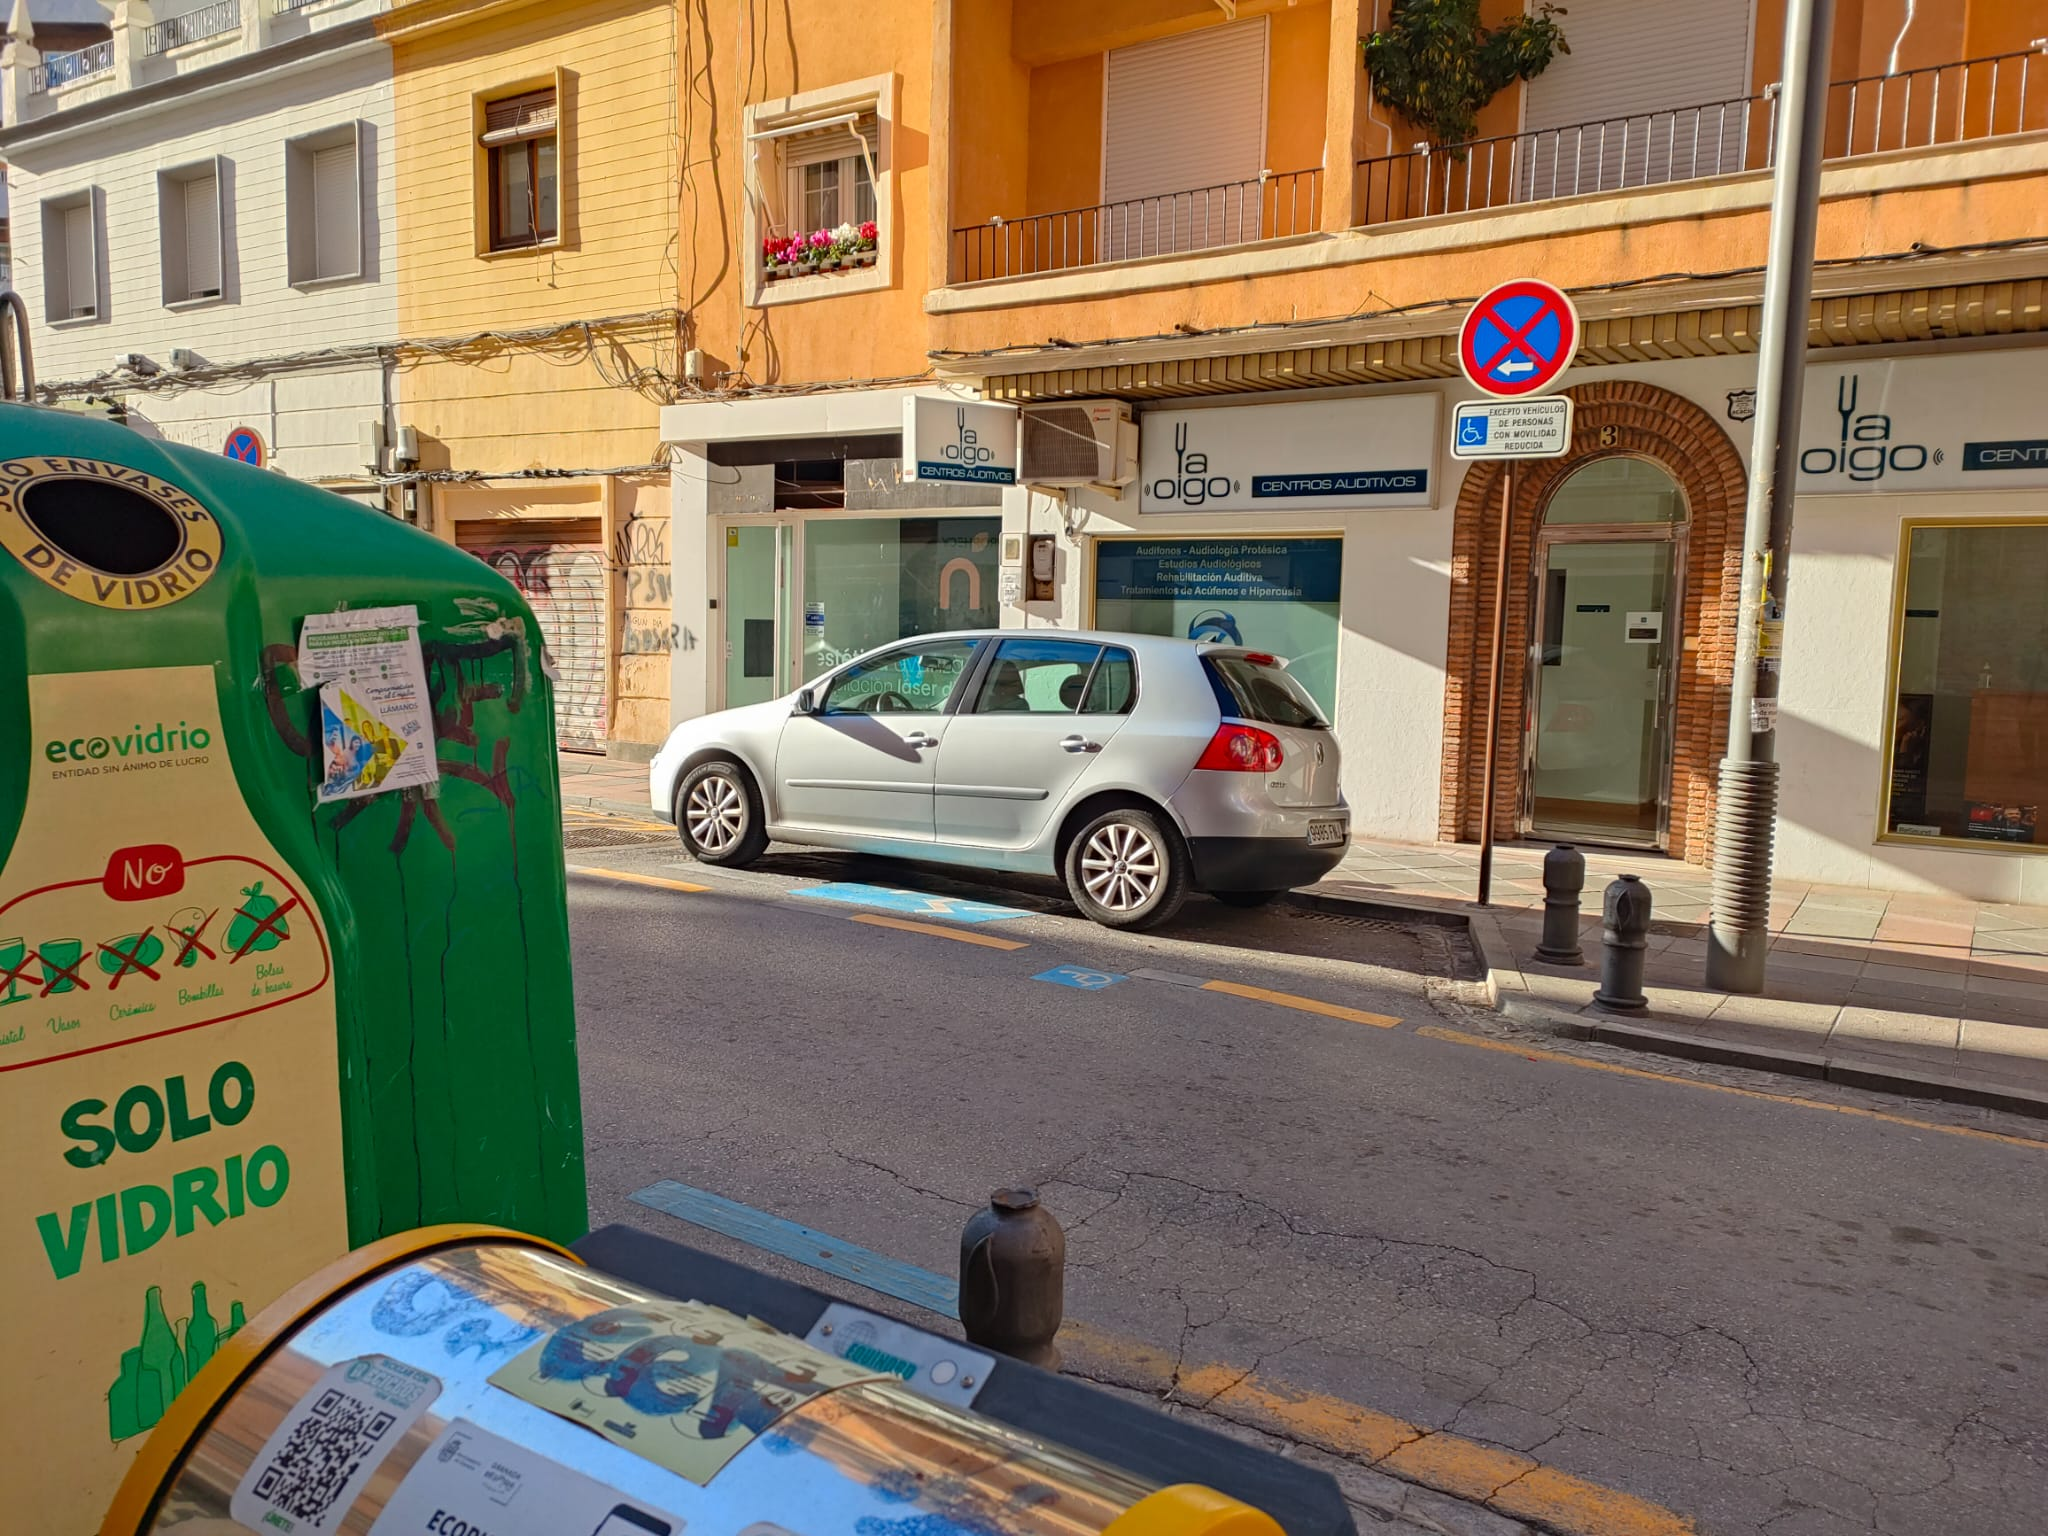car: (626, 579, 1366, 929)
